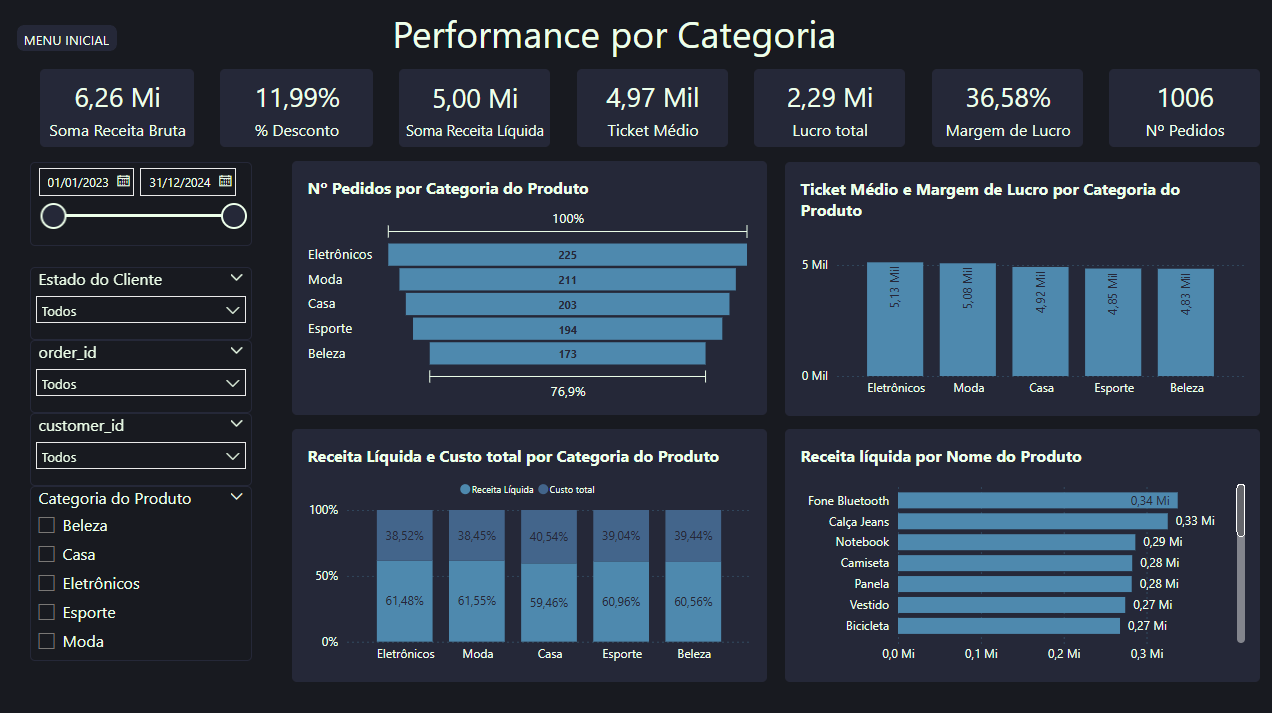

What the dashboard file says about the page in this screenshot:
{"tool":"powerbi","page":{"name":"Performance por Categoria","canvas":[1280,720],"ordinal":2},"visuals":[{"type":"textbox","box":[396.5,9.9,486.9,57.3],"z":0},{"type":"hundredPercentStackedColumnChart","fields":{"Category":["ShopMax.Categoria do Produto"],"Y":["ShopMax.Soma Rceita Líquida","ShopMax.Custo total"]},"box":[296.3,430.6,475.1,253.8],"z":1000},{"type":"funnel","fields":{"Category":["ShopMax.Categoria do Produto"],"Y":["ShopMax.Nº Pedidos"]},"box":[296.3,163,475.1,253.8],"z":2000},{"type":"clusteredBarChart","fields":{"Category":["ShopMax.Nome do Produto"],"Y":["Sum(ShopMax.Recita líquida)"]},"box":[789.1,430.6,475.1,253.8],"z":3000},{"type":"card","fields":{"Values":["ShopMax.Soma Receita Bruta"]},"box":[44.5,71.1,153.1,78],"z":4000},{"type":"card","fields":{"Values":["ShopMax.% Desconto"]},"box":[223.9,71.1,153.1,78],"z":5000},{"type":"card","fields":{"Values":["ShopMax.Soma Rceita Líquida"]},"box":[403.3,71.1,151.1,78],"z":6000},{"type":"card","fields":{"Values":["ShopMax.Lucro total"]},"box":[758.2,71.1,151.1,78],"z":7000},{"type":"card","fields":{"Values":["ShopMax.Margem de Lucro"]},"box":[935.6,71.1,151.1,78],"z":8000},{"type":"card","fields":{"Values":["ShopMax.Ticket Médio"]},"box":[580.7,71.1,151.1,78],"z":9000},{"type":"card","fields":{"Values":["ShopMax.Nº Pedidos"]},"box":[1113.1,71.1,151.1,78],"z":10000},{"type":"slicer","fields":{"Values":["ShopMax.order_date"]},"box":[33.6,163.9,222.2,84],"z":11000},{"type":"slicer","fields":{"Values":["ShopMax.Categoria do Produto"]},"box":[33.5,487.9,222.5,175.2],"z":12000},{"type":"slicer","fields":{"Values":["ShopMax.Estado do Cliente"]},"box":[33.6,268.6,222.2,73.1],"z":13000},{"type":"slicer","fields":{"Values":["ShopMax.order_id"]},"box":[33.6,341.7,222.2,73.1],"z":14000},{"type":"slicer","fields":{"Values":["ShopMax.customer_id"]},"box":[33.6,414.8,222.2,73.1],"z":15000},{"type":"clusteredColumnChart","fields":{"Y":["ShopMax.Ticket Médio"],"Category":["ShopMax.Categoria do Produto"]},"box":[789.1,164,475.1,253.8],"z":16000},{"type":"actionButton","box":[21.5,26.6,99.7,26.6],"z":17000}]}

Visuals, with their boxes in screenshot pixels (x1, y1, x2, y2), scaled from the page's 1280x720 canvas onto the 1272x713 screenshot:
textbox: box=[394, 10, 878, 67]
hundredPercentStackedColumnChart - ShopMax.Categoria do Produto x ShopMax.Soma Rceita Líquida: box=[294, 426, 767, 678]
funnel - ShopMax.Categoria do Produto x ShopMax.Nº Pedidos: box=[294, 161, 767, 413]
clusteredBarChart - ShopMax.Nome do Produto x Sum(ShopMax.Recita líquida): box=[784, 426, 1256, 678]
card - ShopMax.Soma Receita Bruta: box=[44, 70, 196, 148]
card - ShopMax.% Desconto: box=[223, 70, 375, 148]
card - ShopMax.Soma Rceita Líquida: box=[401, 70, 551, 148]
card - ShopMax.Lucro total: box=[753, 70, 904, 148]
card - ShopMax.Margem de Lucro: box=[930, 70, 1080, 148]
card - ShopMax.Ticket Médio: box=[577, 70, 727, 148]
card - ShopMax.Nº Pedidos: box=[1106, 70, 1256, 148]
slicer - ShopMax.order_date: box=[33, 162, 254, 245]
slicer - ShopMax.Categoria do Produto: box=[33, 483, 254, 657]
slicer - ShopMax.Estado do Cliente: box=[33, 266, 254, 338]
slicer - ShopMax.order_id: box=[33, 338, 254, 411]
slicer - ShopMax.customer_id: box=[33, 411, 254, 483]
clusteredColumnChart - ShopMax.Ticket Médio x ShopMax.Categoria do Produto: box=[784, 162, 1256, 414]
actionButton: box=[21, 26, 120, 53]
